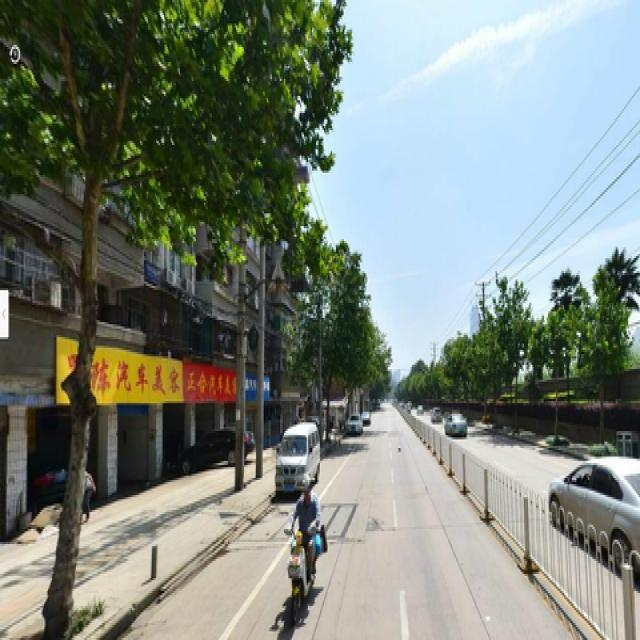meta: (13, 7, 245, 580)
